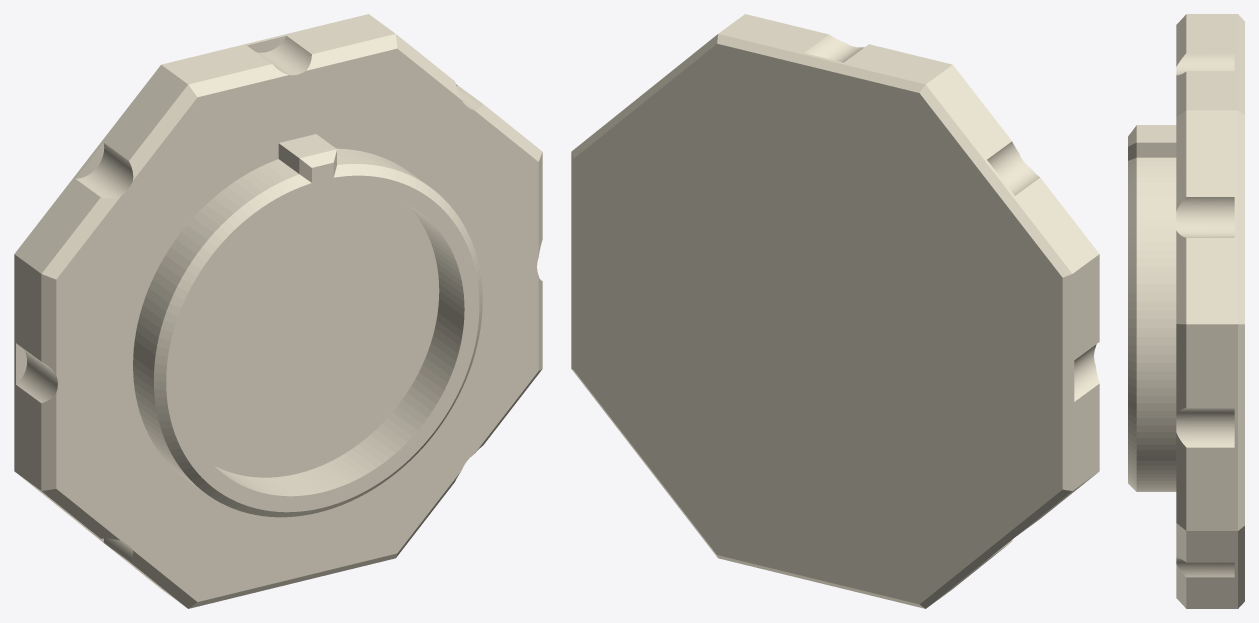
File: t3@ivory.glb
3 renders of one model, left to right at view 1: azimuth 30°, elevation 25°; view 2: azimuth 150°, elevation 25°; view 3: azimuth 270°, elevation 25°, orthographic. The views are drawn at different scales.
Parts seen in each view (by area): view 1: geometry_0; view 2: geometry_0; view 3: geometry_0.
Part boxes in pixels (<box>): geometry_0: <box>14,14,542,608</box>; geometry_0: <box>571,14,1099,608</box>; geometry_0: <box>1128,14,1244,608</box>.
Size of the model in its own units: 32 by 32 by 6.8.
